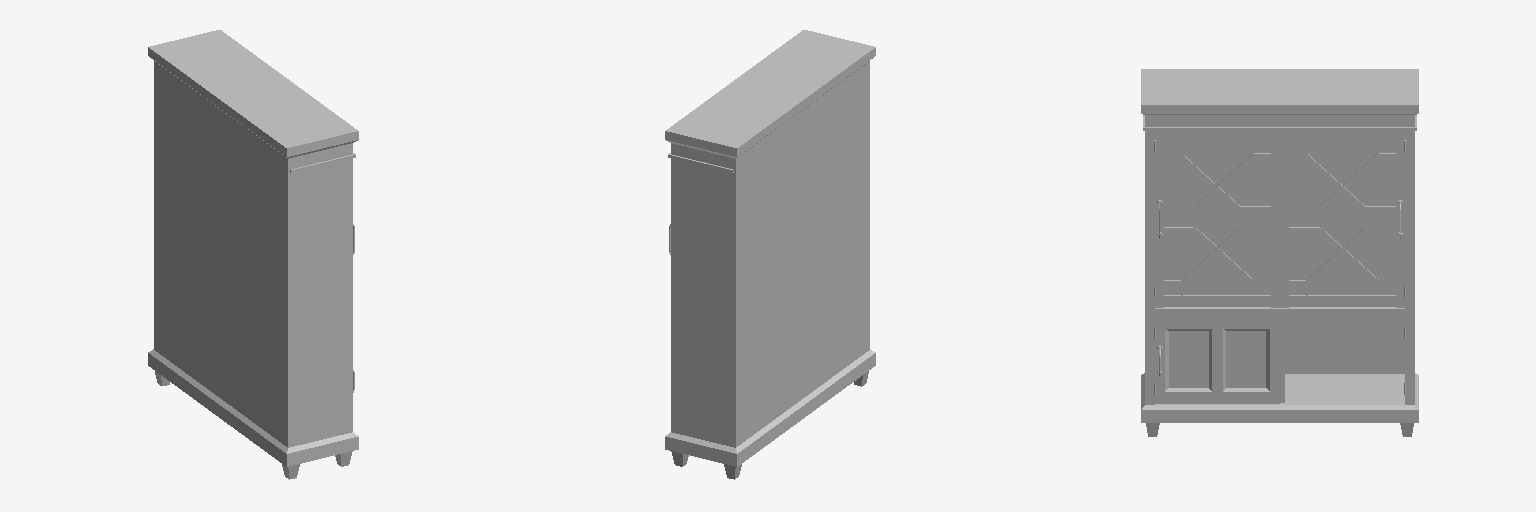
The model's file is cupboard.obj.
The picture shows the model from 3 angles: view 1: azimuth 30°, elevation 25°; view 2: azimuth 150°, elevation 25°; view 3: azimuth 270°, elevation 25°; orthographic projection.
Parts seen in each view (by area): view 1: SM_DiningCupboard; view 2: SM_DiningCupboard; view 3: SM_DiningCupboard, SM_DiningCupboard_Glass_R, SM_DiningCupboard_Glass_L, SM_DiningCupboard_DoorDown_R, SM_DiningCupboard_DoorUp_L, SM_DiningCupboard_DoorUp_R.
Boxes of the visible parts, <box> form: SM_DiningCupboard: <box>148,30,358,479</box>; SM_DiningCupboard: <box>665,30,875,479</box>; SM_DiningCupboard: <box>1141,69,1418,436</box>; SM_DiningCupboard_Glass_R: <box>1164,141,1270,294</box>; SM_DiningCupboard_Glass_L: <box>1289,141,1395,294</box>; SM_DiningCupboard_DoorDown_R: <box>1155,317,1279,403</box>; SM_DiningCupboard_DoorUp_L: <box>1280,131,1404,307</box>; SM_DiningCupboard_DoorUp_R: <box>1155,131,1279,307</box>.
Bounding box in the file's own units: 0.4827 × 2 × 1.5.